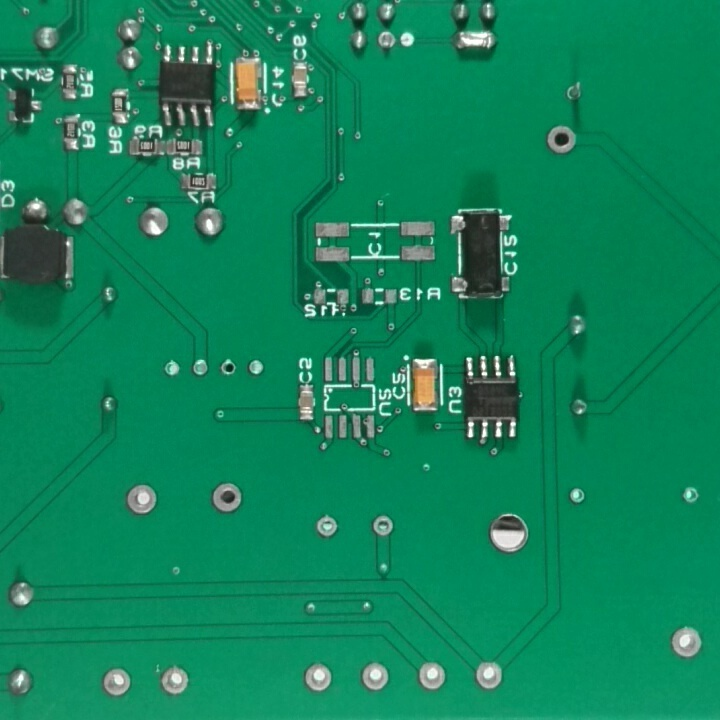F: (666, 622, 704, 663), (208, 479, 246, 516), (542, 120, 580, 157), (97, 664, 136, 700), (122, 481, 159, 518), (156, 663, 193, 698), (357, 660, 392, 695), (414, 659, 448, 695), (470, 658, 504, 694), (301, 660, 333, 693), (314, 512, 341, 540), (368, 513, 395, 540), (375, 29, 398, 55), (564, 82, 587, 108), (163, 355, 185, 380), (679, 485, 701, 509), (567, 486, 589, 510), (246, 358, 268, 380), (190, 356, 210, 380), (219, 357, 238, 380)
P: (452, 26, 500, 56)
